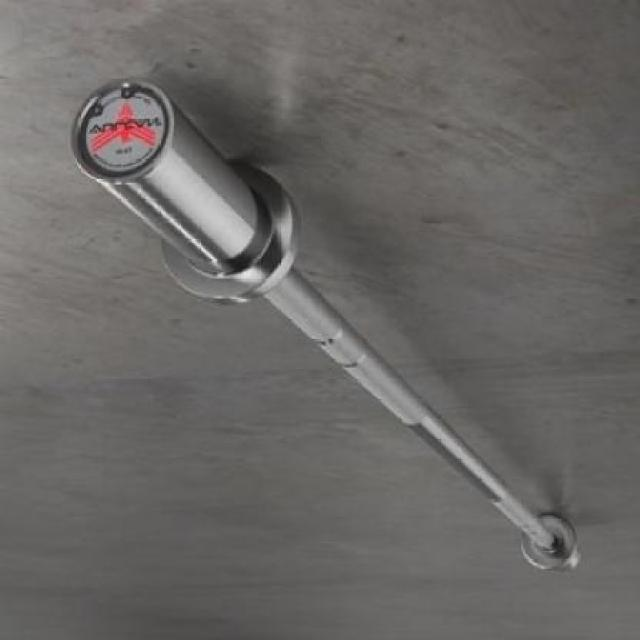Barbell: (68, 70, 184, 188)
